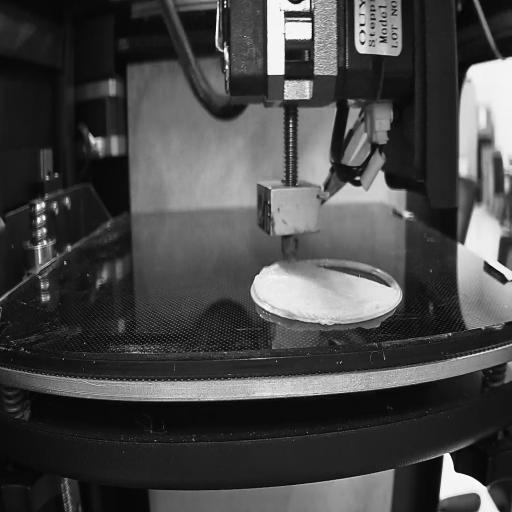over_extrusion: (252, 256, 282, 302)
